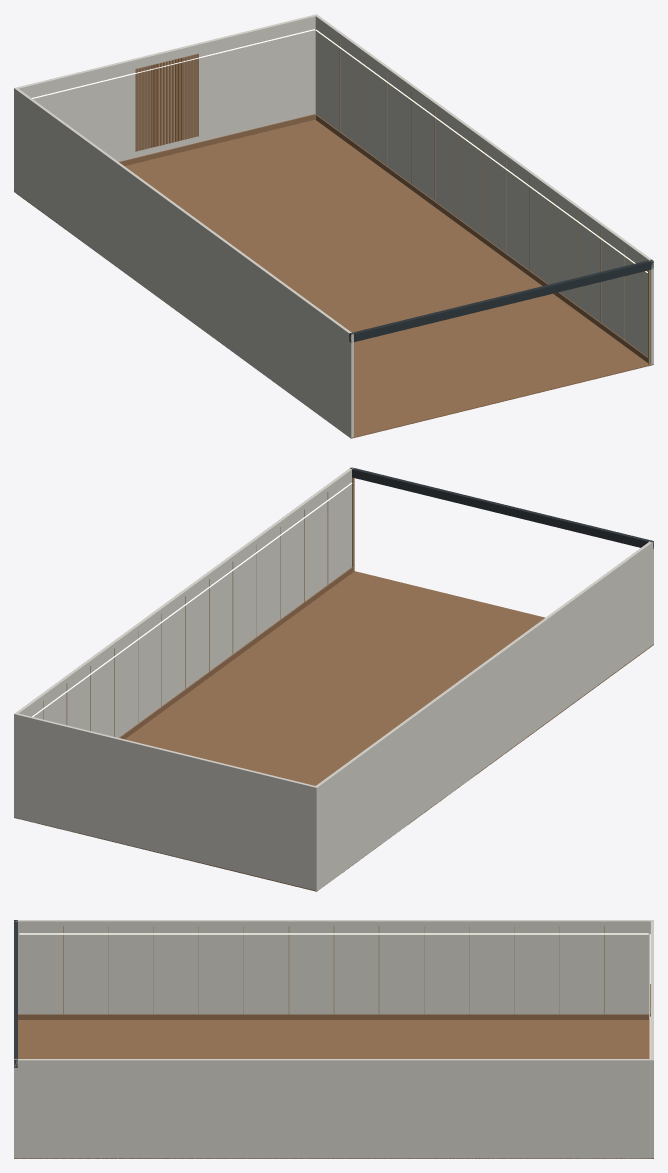
Rendered from booth-28x54.glb.
The picture shows the model from 3 angles, top to bottom: view 1: azimuth 30°, elevation 25°; view 2: azimuth 150°, elevation 25°; view 3: azimuth 270°, elevation 25°; orthographic projection. The views are drawn at different scales.
Visible parts, largest first — view 1: inset_oak_floor, mesh_side_-1, mesh_side_1, mesh_rear, mesh_branding, oak_side_plinth_1, rear_oak_plinth, warm_side_wash_1; view 2: inset_oak_floor, mesh_side_-1, mesh_rear, mesh_side_1, mesh_branding, oak_side_plinth_1, warm_side_wash_1; view 3: mesh_side_1, mesh_side_-1, inset_oak_floor, oak_side_plinth_-1, warm_side_wash_-1, mesh_rear, mesh_branding.
Part boxes in pixels (x1,y1,x2,y2): inset_oak_floor: (14,119,653,438); mesh_side_-1: (15,88,353,437); mesh_side_1: (315,15,653,364); mesh_rear: (14,14,317,192); mesh_branding: (349,259,653,342); oak_side_plinth_1: (315,114,647,362); rear_oak_plinth: (119,114,315,165); warm_side_wash_1: (315,29,647,272); inset_oak_floor: (14,571,653,891); mesh_side_-1: (316,541,653,889); mesh_rear: (14,713,318,890); mesh_side_1: (16,467,353,737); mesh_branding: (350,467,653,548); oak_side_plinth_1: (119,567,352,739); warm_side_wash_1: (32,482,352,716); mesh_side_1: (14,1059,650,1158); mesh_side_-1: (17,920,650,1018); inset_oak_floor: (14,1019,653,1158); oak_side_plinth_-1: (18,1014,648,1019); warm_side_wash_-1: (19,933,648,934); mesh_rear: (651,920,653,1158); mesh_branding: (14,920,17,1067).
Bounding box in the file's own units: 8.53 × 2.8 × 16.46.
